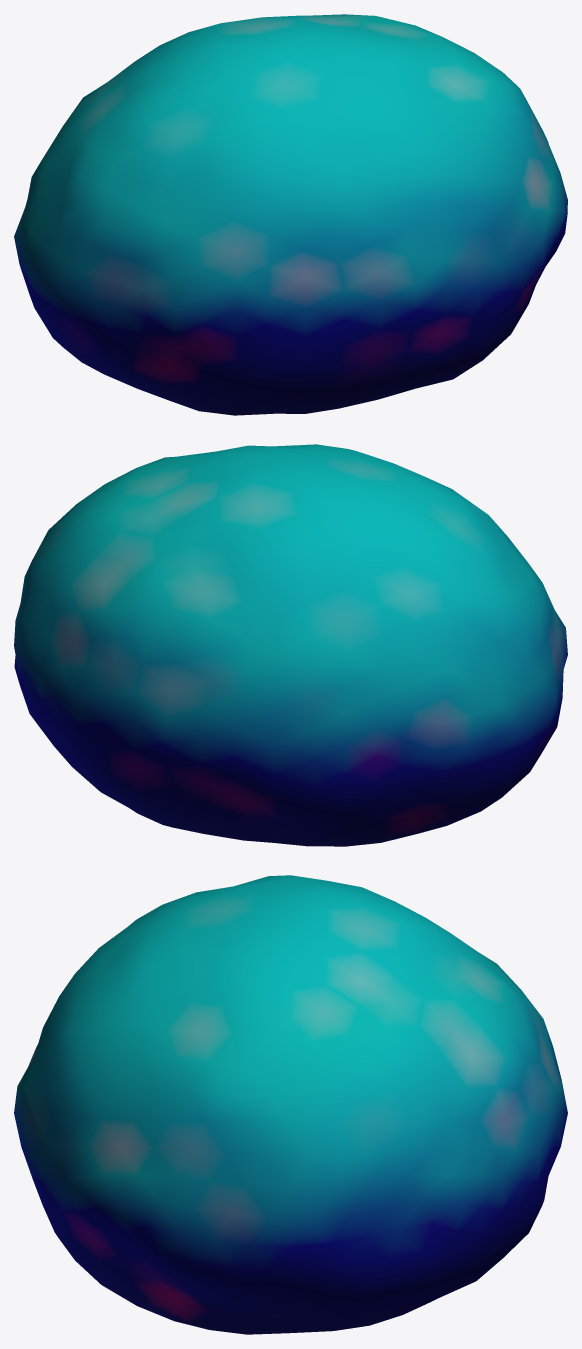
The model's file is RockRounded_3_lod0.glb.
3 views of the same model, one above another, from view 1: azimuth 30°, elevation 25°; view 2: azimuth 150°, elevation 25°; view 3: azimuth 270°, elevation 25° (orthographic). The views are drawn at different scales.
Parts seen in each view (by area): view 1: RockRounded_3_lod0; view 2: RockRounded_3_lod0; view 3: RockRounded_3_lod0.
Boxes of the visible parts, x1,y1,x2,y2 form: RockRounded_3_lod0: (14, 14, 567, 415); RockRounded_3_lod0: (14, 444, 567, 846); RockRounded_3_lod0: (14, 875, 567, 1334).
Bounding box in the file's own units: 1.63 × 1.01 × 1.44.
